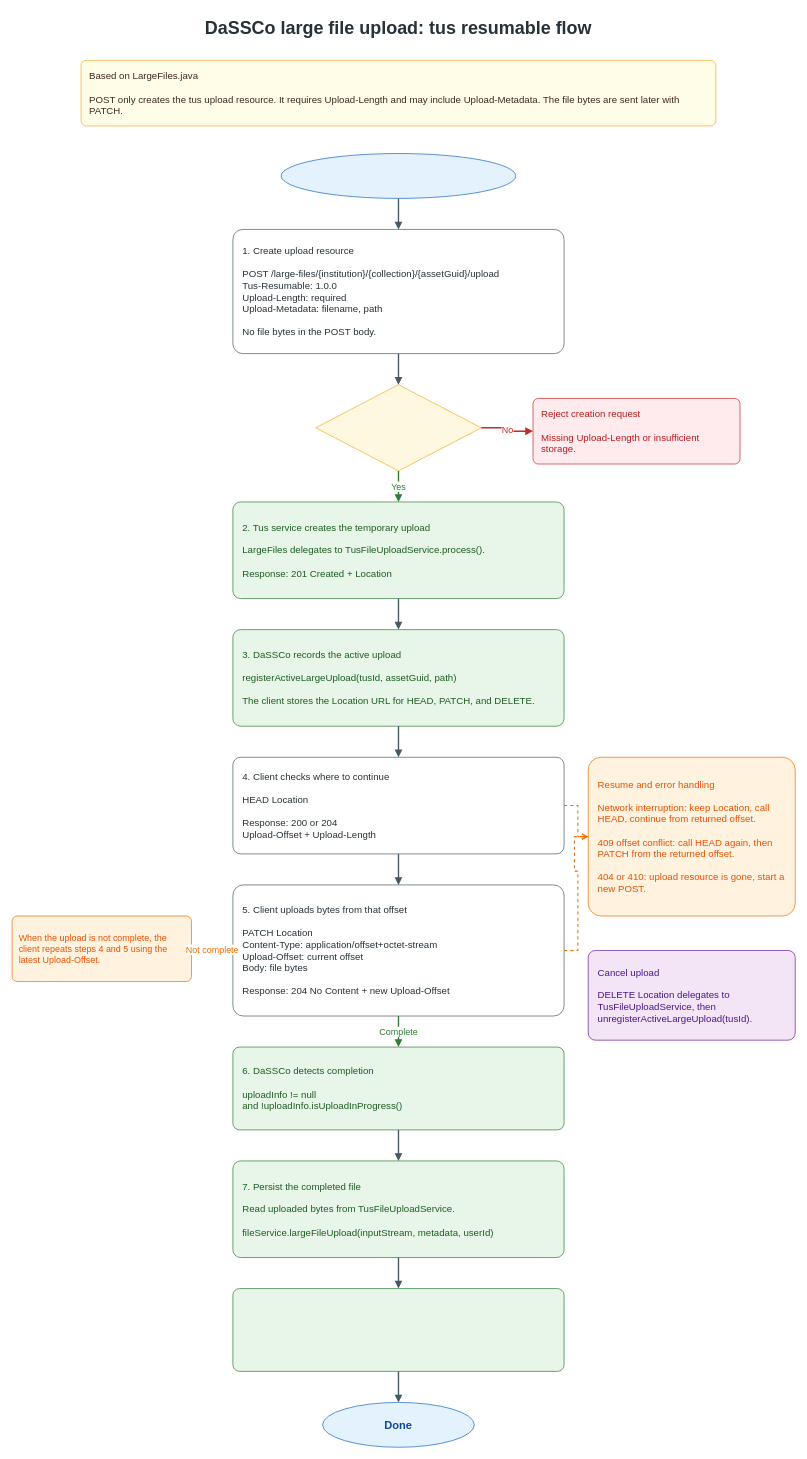
Image size: 807x1459. Some labels were removed from this diagram. Here are the shapes that lost their labels. From the top down, the centre of each, then its label:
the point at 398,175: Client starts a large file upload
the point at 398,427: Upload-Length present and enough storage?
the point at 398,1329: 8. Cleanup unregisterActiveLargeUpload(tusId) delete temporary tus upload
